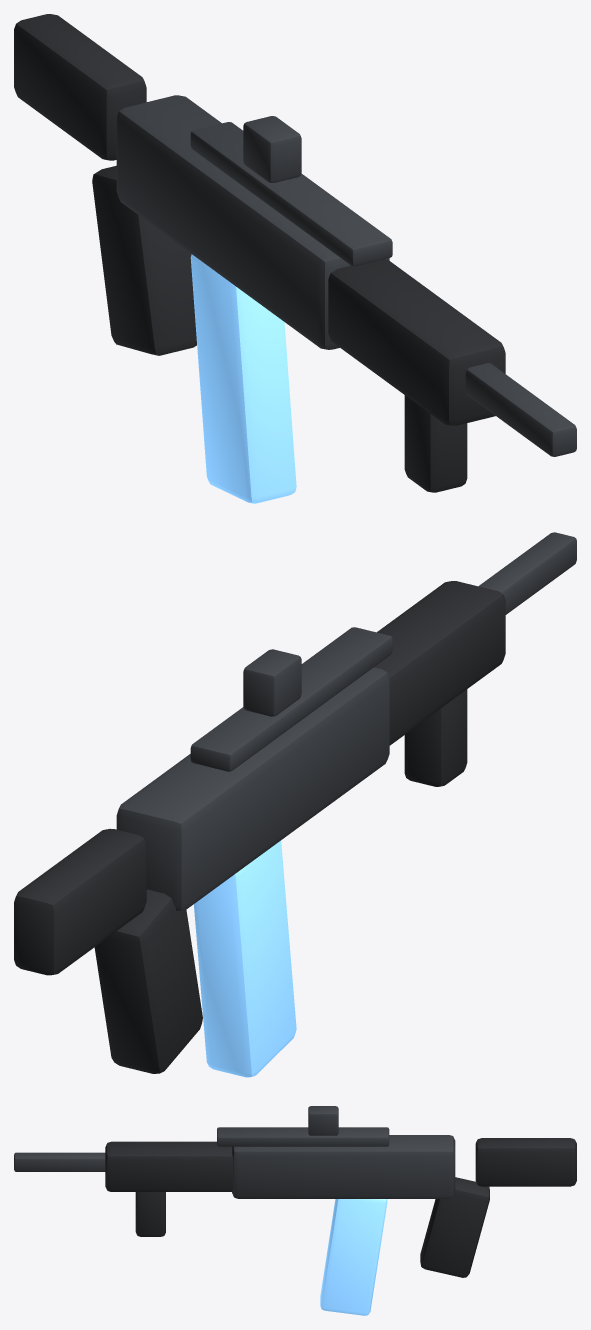
Rendered from weapon_smg.glb.
3 renders of one model, top to bottom at view 1: azimuth 30°, elevation 25°; view 2: azimuth 150°, elevation 25°; view 3: azimuth 270°, elevation 25°, orthographic. The views are drawn at different scales.
Parts seen in each view (by area): view 1: receiver, mag, handguard, grip, stock, rail, barrel, foregrip, sight; view 2: receiver, mag, grip, stock, handguard, rail, foregrip, barrel, sight; view 3: receiver, handguard, mag, stock, grip, rail, barrel, foregrip, sight.
Boxes of the visible parts, x1,y1,x2,y2 form: receiver: (116, 95, 389, 349); mag: (190, 254, 296, 503); handguard: (328, 259, 505, 425); grip: (92, 165, 196, 355); stock: (14, 14, 146, 160); rail: (190, 122, 392, 266); barrel: (465, 363, 576, 456); foregrip: (404, 395, 467, 492); sight: (243, 116, 301, 183); receiver: (116, 667, 389, 911); mag: (194, 840, 296, 1077); grip: (94, 889, 202, 1073); stock: (14, 828, 146, 975); handguard: (374, 581, 505, 745); rail: (190, 627, 392, 771); foregrip: (404, 689, 467, 786); barrel: (478, 532, 576, 614); sight: (243, 649, 301, 716); receiver: (232, 1135, 455, 1198); handguard: (105, 1141, 233, 1191); mag: (320, 1199, 387, 1315); stock: (475, 1138, 576, 1186); grip: (420, 1177, 489, 1277); rail: (217, 1127, 389, 1146); barrel: (14, 1152, 105, 1171); foregrip: (135, 1192, 165, 1236); sight: (308, 1106, 338, 1135).
Bounding box in the file's own units: 0.085 × 0.4393 × 1.11.
